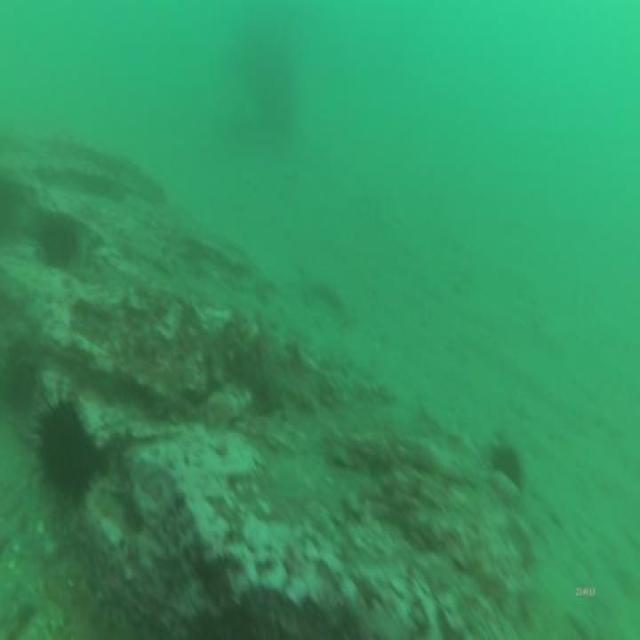echinus: (27, 386, 102, 516), (35, 208, 78, 280), (488, 438, 526, 498), (305, 275, 345, 316)
